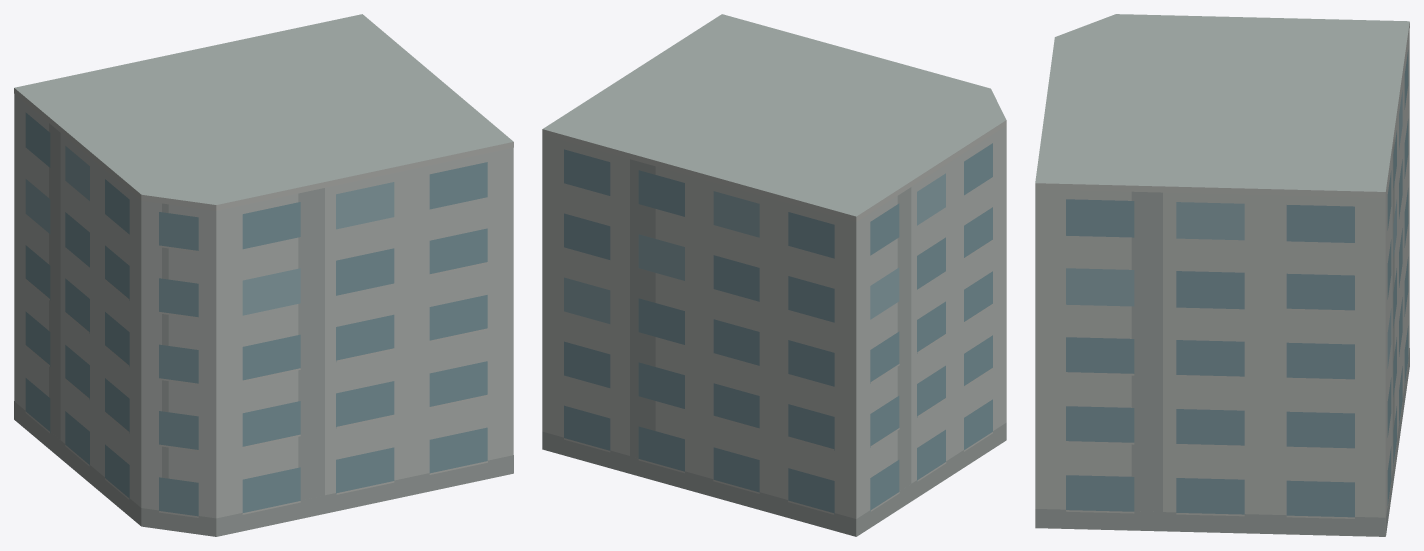
File: survey-upis-32885382.glb
The picture shows the model from 3 angles, left to right: view 1: azimuth 30°, elevation 25°; view 2: azimuth 150°, elevation 25°; view 3: azimuth 270°, elevation 25°; orthographic projection. The views are drawn at different scales.
Visible parts, largest first — view 1: survey-upis-32885382.tmp; view 2: survey-upis-32885382.tmp; view 3: survey-upis-32885382.tmp.
Part boxes in pixels (x1,y1,x2,y2): survey-upis-32885382.tmp: (14,14,513,536); survey-upis-32885382.tmp: (542,14,1006,536); survey-upis-32885382.tmp: (1035,14,1409,536).
Size of the model in its own units: 15.17 by 13.7 by 13.5.
